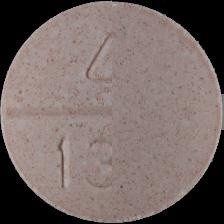54868-4352: (0, 0, 224, 224)
